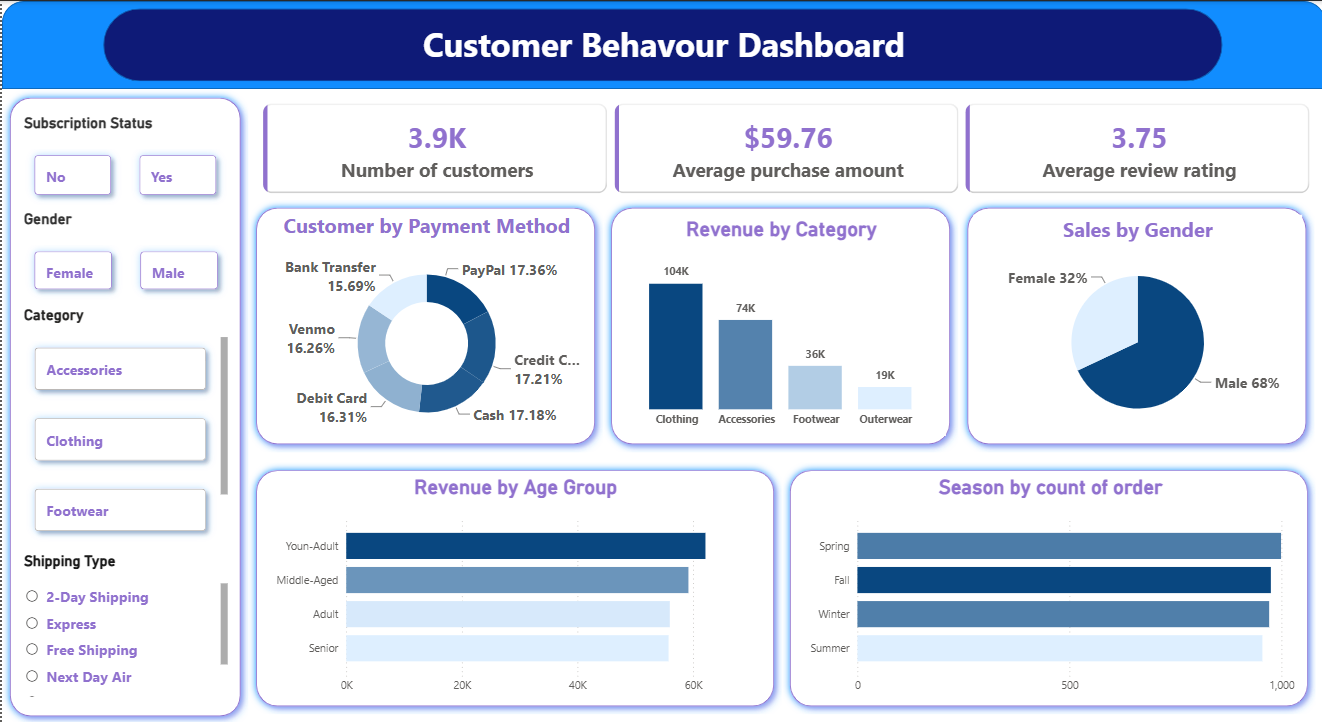

This screenshot's page, from the dashboard's own definition file:
{"tool":"powerbi","page":{"name":"Page 1","canvas":[1500,820],"ordinal":0},"visuals":[{"type":"cardVisual","fields":{"Data":["customer_behaviour customer.Number of customers","customer_behaviour customer.Average purchase amount","customer_behaviour customer.Average review rating"]},"box":[279.5,99.8,1220.8,136.9],"z":0},{"type":"shape","box":[0,0,1500.3,99.7],"z":1000},{"type":"shape","box":[279.8,225.1,402,286.2],"z":2000},{"type":"donutChart","title":"Customer by Payment Method","fields":{"Category":["customer_behaviour customer.payment_method"],"Y":["CountNonNull(customer_behaviour customer.customer_id)"]},"box":[303.9,238,353.8,258.9],"z":3000},{"type":"shape","box":[681.8,225.1,402,286.2],"z":4000},{"type":"shape","box":[1085.4,225.1,402,286.2],"z":5000},{"type":"clusteredColumnChart","title":"Revenue by Category","fields":{"Category":["customer_behaviour customer.category"],"Y":["Sum(customer_behaviour customer.purchase_amount)"]},"box":[697,244.5,373.1,247.7],"z":6000},{"type":"pieChart","title":"Sales by Gender","fields":{"Category":["customer_behaviour customer.gender"],"Y":["CountNonNull(customer_behaviour customer.customer_id)"]},"box":[1100.2,242.9,373.1,247.7],"z":7000},{"type":"shape","box":[0,100,279.4,719.2],"z":8000},{"type":"advancedSlicerVisual","fields":{"Values":["customer_behaviour customer.subscription_status"]},"box":[19.4,127.4,241.9,109.7],"z":9000},{"type":"advancedSlicerVisual","fields":{"Values":["customer_behaviour customer.gender"]},"box":[19.4,237.1,243.5,108.1],"z":10000},{"type":"advancedSlicerVisual","title":"Category","fields":{"Values":["customer_behaviour customer.category"]},"box":[19.4,345.2,241.9,272.6],"z":11000},{"type":"listSlicer","title":"Shipping Type","fields":{"Values":["customer_behaviour customer.shipping_type"]},"box":[19.4,624.2,241.9,169.4],"z":12000},{"type":"shape","box":[279.4,522.3,604.9,285.8],"z":13000},{"type":"shape","box":[884.3,522.3,604.9,285.8],"z":14000},{"type":"clusteredBarChart","title":"Season by count of order","fields":{"Category":["customer_behaviour customer.season"],"Y":["CountNonNull(customer_behaviour customer.customer_id)"]},"box":[906.5,536.6,563.6,257.2],"z":15000},{"type":"clusteredBarChart","title":"Revenue by Age Group","fields":{"Category":["customer_behaviour customer.age_group"],"Y":["Sum(customer_behaviour customer.purchase_amount)"]},"box":[300.1,536.6,563.6,257.2],"z":16000},{"type":"shape","box":[114.3,7.9,1268.5,82.6],"z":17000},{"type":"textbox","box":[0,19.1,1500.3,60.3],"z":18000}]}

Visuals, with their boxes in screenshot pixels (x1, y1, x2, y2), scaled from the page's 1500x820 canvas onto the 1322x722 screenshot:
cardVisual - customer_behaviour customer.Number of customers x customer_behaviour customer.Average purchase amount: box(246, 88, 1321, 208)
shape: box(0, 0, 1321, 88)
shape: box(247, 198, 601, 450)
"Customer by Payment Method" donutChart: box(268, 210, 580, 438)
shape: box(601, 198, 955, 450)
shape: box(957, 198, 1311, 450)
"Revenue by Category" clusteredColumnChart: box(614, 215, 943, 433)
"Sales by Gender" pieChart: box(970, 214, 1298, 432)
shape: box(0, 88, 246, 721)
advancedSlicerVisual - customer_behaviour customer.subscription_status: box(17, 112, 230, 209)
advancedSlicerVisual - customer_behaviour customer.gender: box(17, 209, 232, 304)
"Category" advancedSlicerVisual: box(17, 304, 230, 544)
"Shipping Type" listSlicer: box(17, 550, 230, 699)
shape: box(246, 460, 779, 712)
shape: box(779, 460, 1312, 712)
"Season by count of order" clusteredBarChart: box(799, 472, 1296, 699)
"Revenue by Age Group" clusteredBarChart: box(264, 472, 761, 699)
shape: box(101, 7, 1219, 80)
textbox: box(0, 17, 1321, 70)
